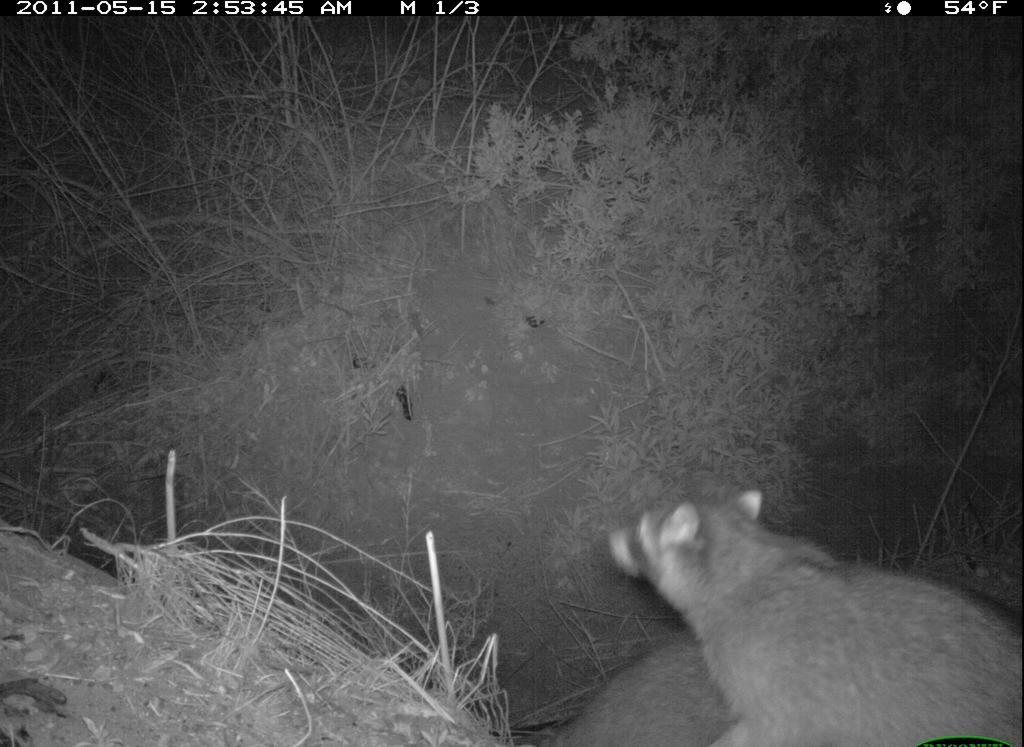raccoon: (592, 475, 1022, 747)
